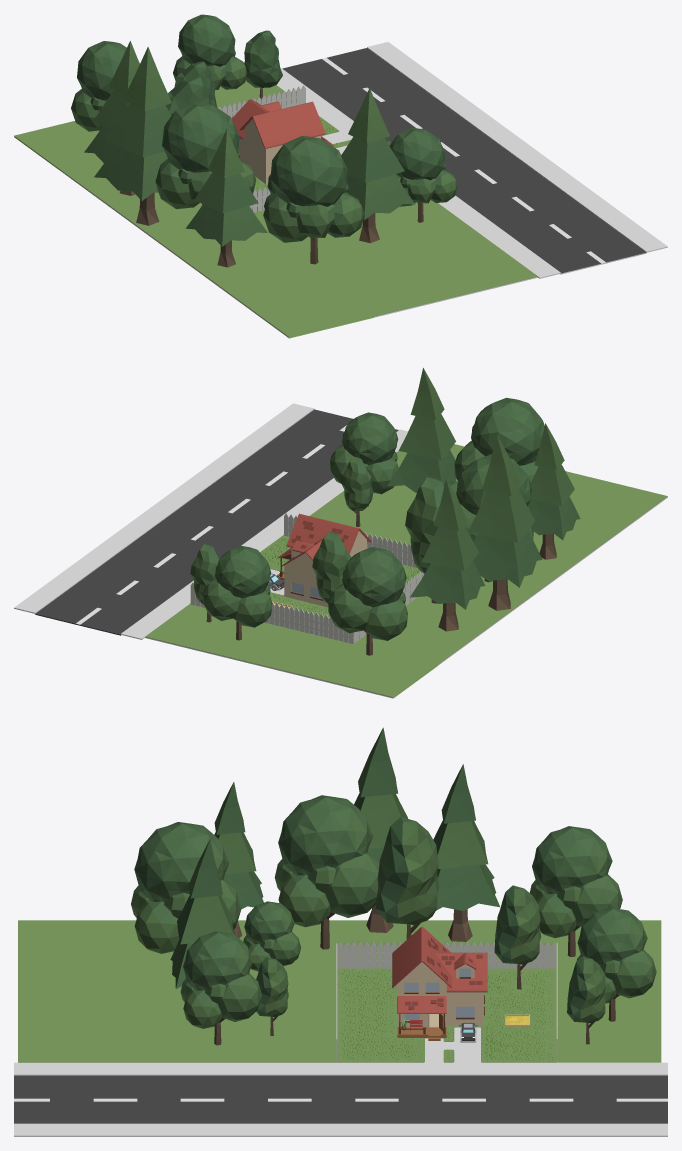
File: house7.glb
The picture shows the model from 3 angles, top to bottom: view 1: azimuth 30°, elevation 25°; view 2: azimuth 150°, elevation 25°; view 3: azimuth 270°, elevation 25°; orthographic projection. The views are drawn at different scales.
Parts seen in each view (by area): view 1: gras, road, tree-lime.006, tree-spruce.002, tree-lime.002, tree-spruce.003, tree-spruce.005, tree-lime.004, tree-lime, roof, tree-lime.001, tree-spruce (+5 smaller); view 2: road, gras, tree-spruce.002, tree-lime.001, tree-spruce, tree-lime, tree-spruce.003, tree-lime.006, tree-spruce.005, tree-lime.004, Cube.032, tree-beech.002 (+7 smaller); view 3: road, gras, gras.001, tree-lime.002, tree-lime.006, tree-lime.001, tree-lime.004, tree-spruce, tree-beech.002, tree-lime, roof, tree-spruce.002 (+10 smaller).
Boxes of the visible parts, <box> form: gras: <box>14,80,537,338</box>; road: <box>277,42,667,278</box>; tree-lime.006: <box>263,136,364,264</box>; tree-spruce.002: <box>94,46,171,225</box>; tree-lime.002: <box>155,102,256,209</box>; tree-spruce.003: <box>341,88,415,243</box>; tree-spruce.005: <box>185,129,267,267</box>; tree-lime.004: <box>389,128,457,222</box>; tree-lime: <box>173,14,246,89</box>; roof: <box>232,99,334,148</box>; tree-lime.001: <box>71,41,126,131</box>; tree-spruce: <box>84,41,139,195</box>; road: <box>14,403,407,639</box>; gras: <box>145,444,667,698</box>; tree-spruce.002: <box>468,435,542,610</box>; tree-lime.001: <box>328,547,407,655</box>; tree-spruce: <box>409,478,485,631</box>; tree-lime: <box>203,546,272,640</box>; tree-spruce.003: <box>387,368,456,492</box>; tree-lime.006: <box>454,397,544,502</box>; tree-spruce.005: <box>528,423,580,559</box>; tree-lime.004: <box>330,412,398,506</box>; Cube.032: <box>190,513,424,644</box>; tree-beech.002: <box>405,477,444,603</box>; road: <box>14,1062,667,1136</box>; gras: <box>18,920,661,1062</box>; gras.001: <box>335,968,557,1062</box>; tree-lime.002: <box>274,795,379,949</box>; tree-lime.006: <box>131,822,241,953</box>; tree-lime.001: <box>529,826,622,956</box>; tree-lime.004: <box>180,931,262,1045</box>; tree-spruce: <box>433,764,499,941</box>; tree-beech.002: <box>375,817,439,939</box>; tree-lime: <box>577,907,656,1021</box>; roof: <box>392,926,487,1013</box>; tree-spruce.002: <box>354,727,407,932</box>.
Bounding box in the file's own units: 43.73 × 18.25 × 52.91.
43 materials, 3 textured.
